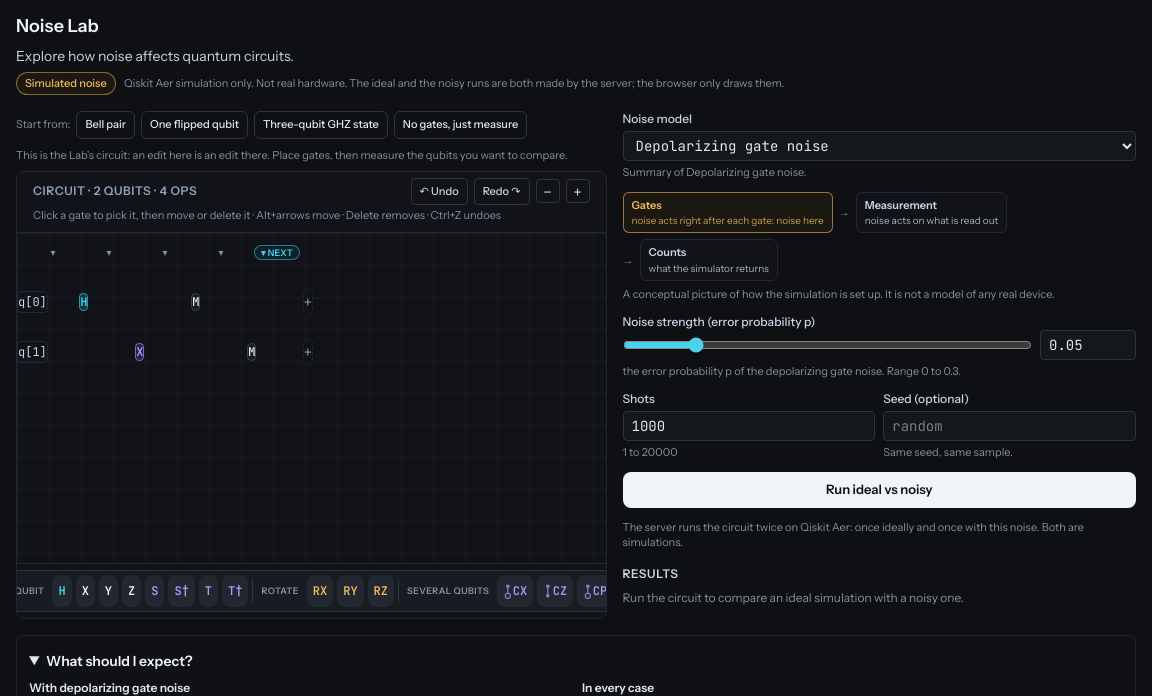
Test case: the result is a pure function of the response › the metrics are the server’s metrics, not recomputed from the table
Expected: the dropdown labelled "Noise model" is shown, [622,130,1136,160]
Click the button "Run ideal vs noisy".
click(879, 490)  # box [622,472,1136,508]
(page scrolled)
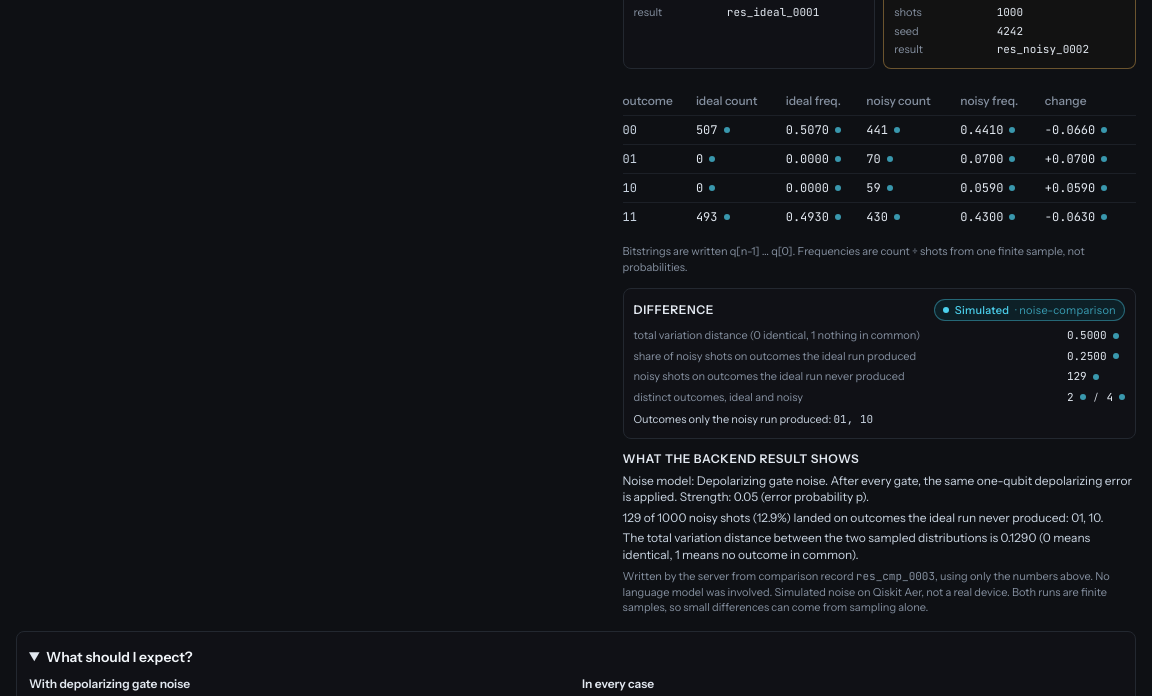
Result: the element with test id "metric-tvd" reads "0.5000" at [1067,328,1106,342]
Result: the element with test id "metric-share" reads "0.2500" at [1067,349,1106,363]
